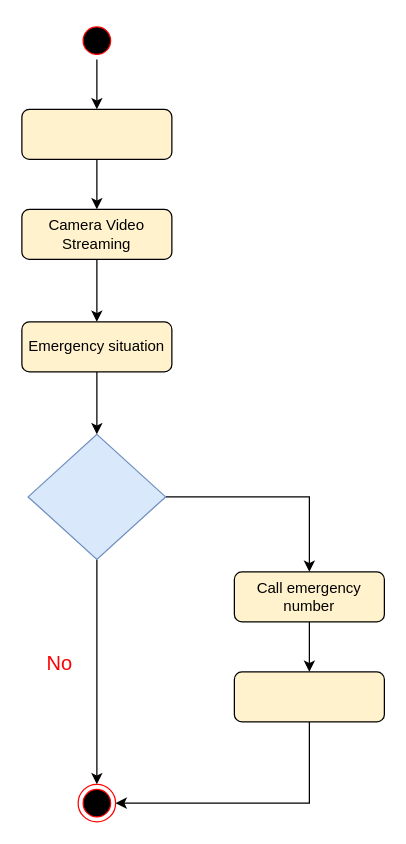
The diagram is 406 pixels wide and 844 high, and some of its shapes have lost their labels. The shapes that lost their labels are listed below. From the top down, each one's box as (x1, y1, x2, y2) in pixels, then its label:
(21, 108, 172, 159): Selecting security
(233, 671, 384, 722): Send an emergency notification to the user
